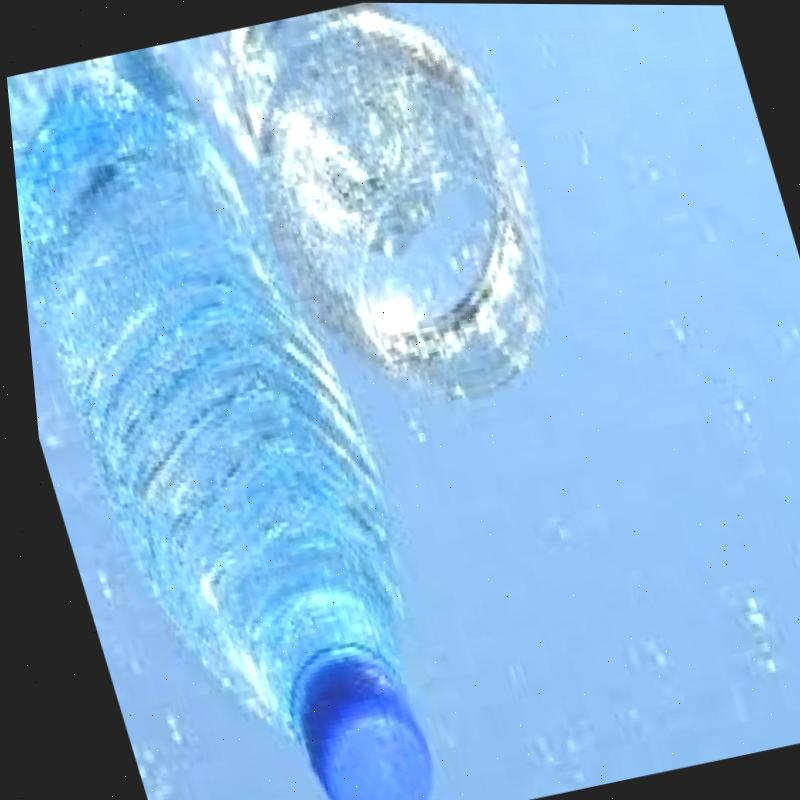botella: (48, 269, 462, 800)
